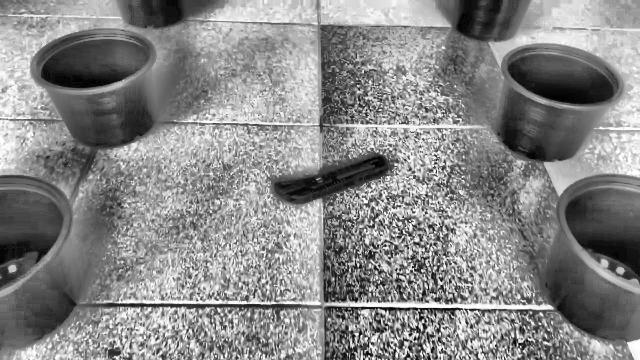pot: (544, 175, 640, 342), (30, 28, 158, 150), (494, 44, 626, 162), (0, 176, 82, 352)
